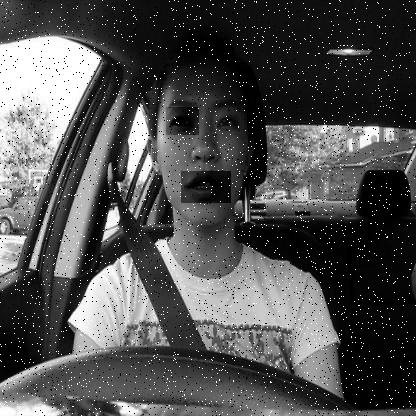seatbelt: (128, 24, 280, 348)
